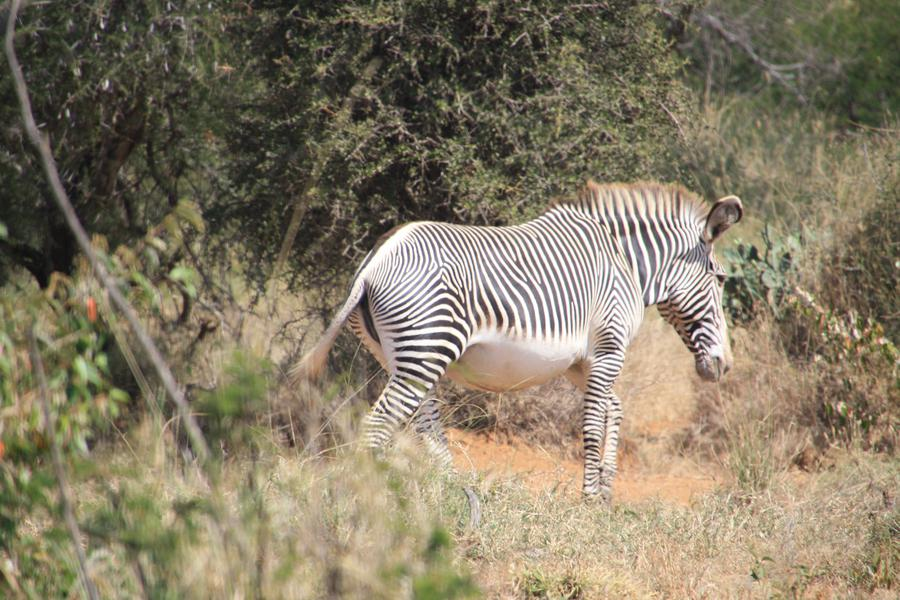zebra_grevys: (355, 212, 637, 348)
